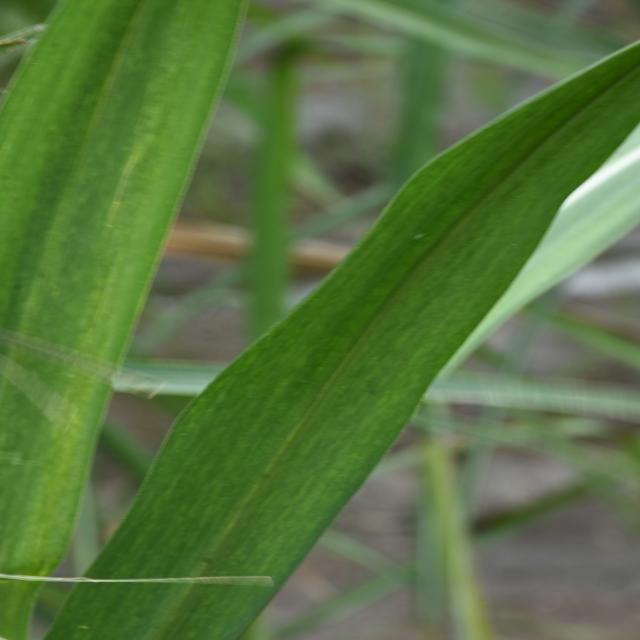Sugarcane: (50, 39, 640, 640), (0, 0, 248, 640)
